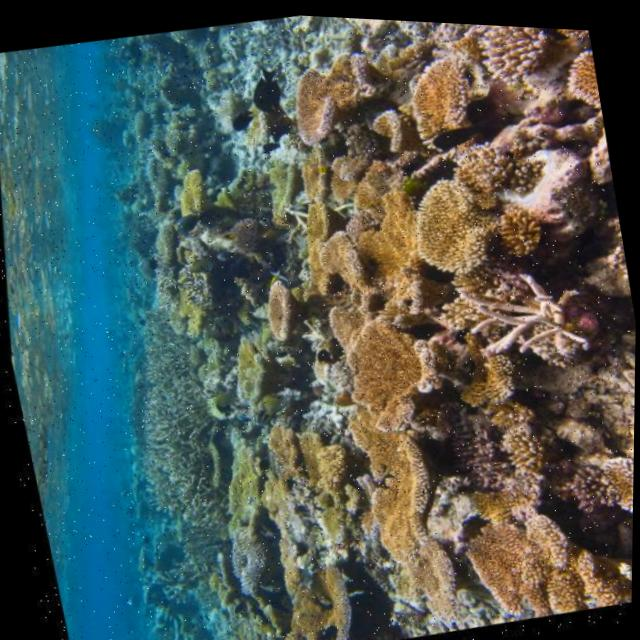Healthy Coral: (184, 8, 640, 640), (435, 244, 607, 390), (241, 390, 392, 527), (259, 550, 363, 640), (237, 263, 317, 356), (245, 153, 310, 239), (159, 155, 223, 229), (214, 205, 273, 261)
